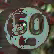Speed limit: (3, 0, 52, 50)
